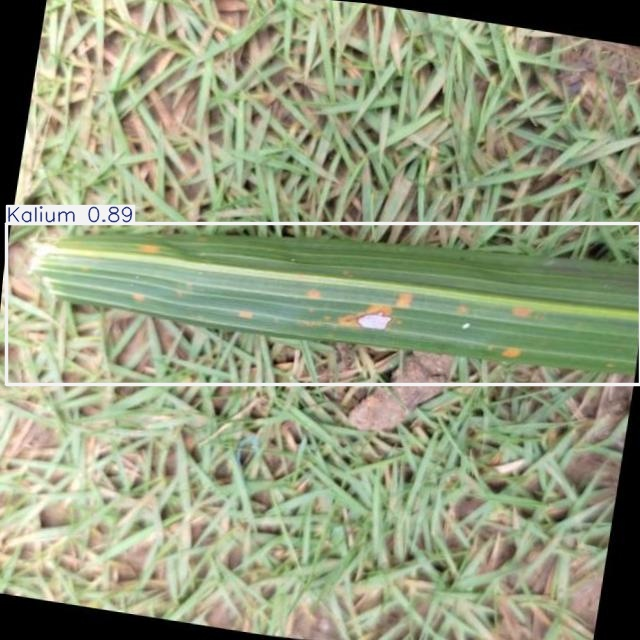Kalium: (7, 224, 640, 385)
